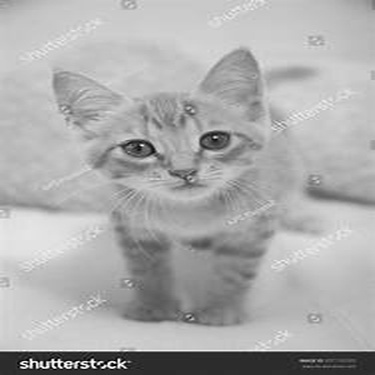cat: (51, 48, 336, 326)
